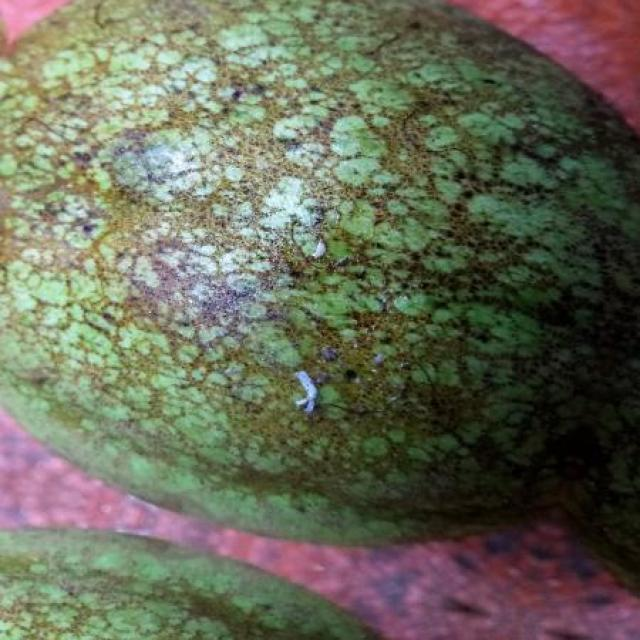Scab: (0, 0, 640, 570), (0, 532, 378, 640)
